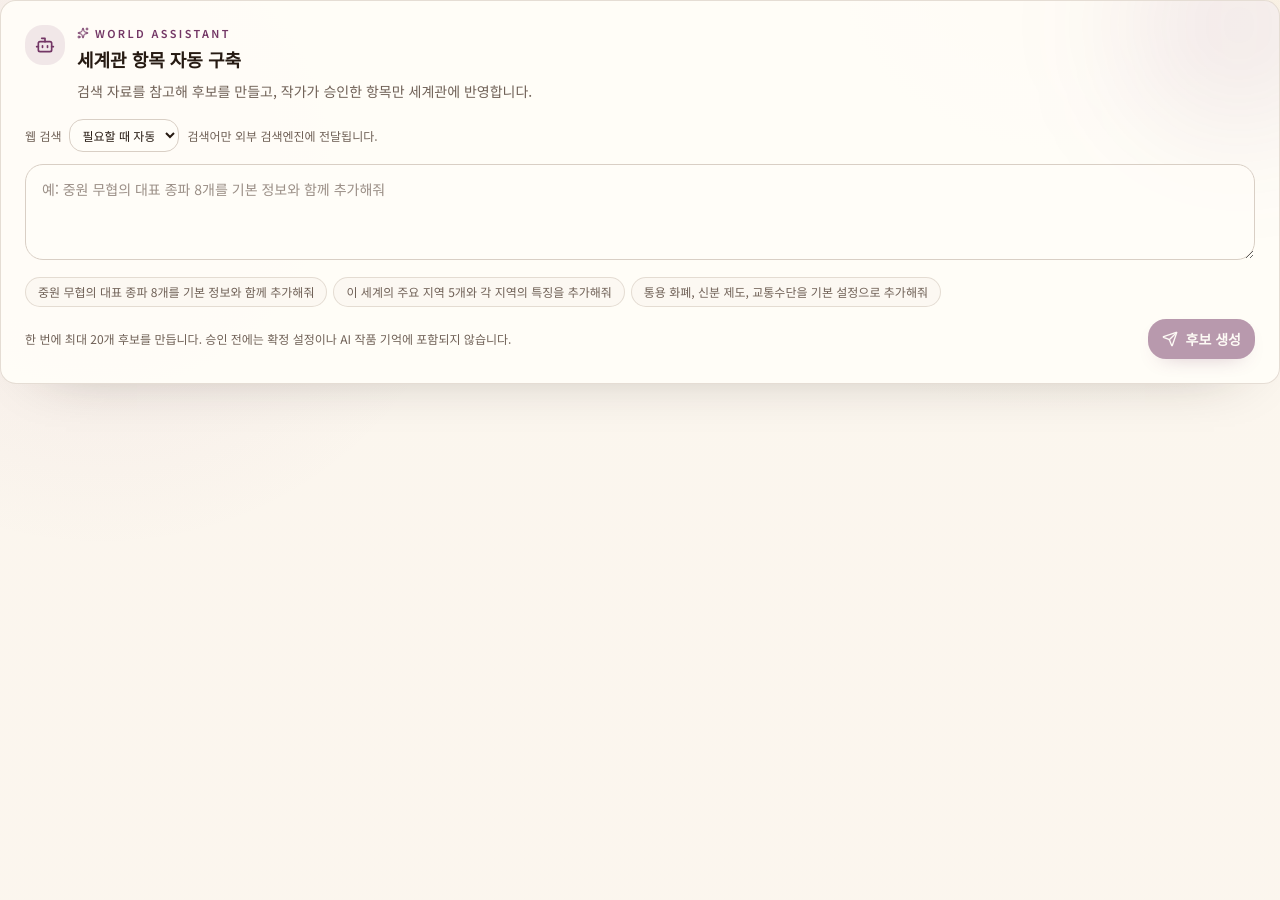
Test: WorldBuilderAssistant review flow › shows an existing-entry diff and applies it only after explicit approval
This screenshot has width=1280, height=900.
Type "모용세가 설명을 수정해줘" into the text box named "세계관 어시스턴트 요청" at (640, 212), box [25,164,1255,260]
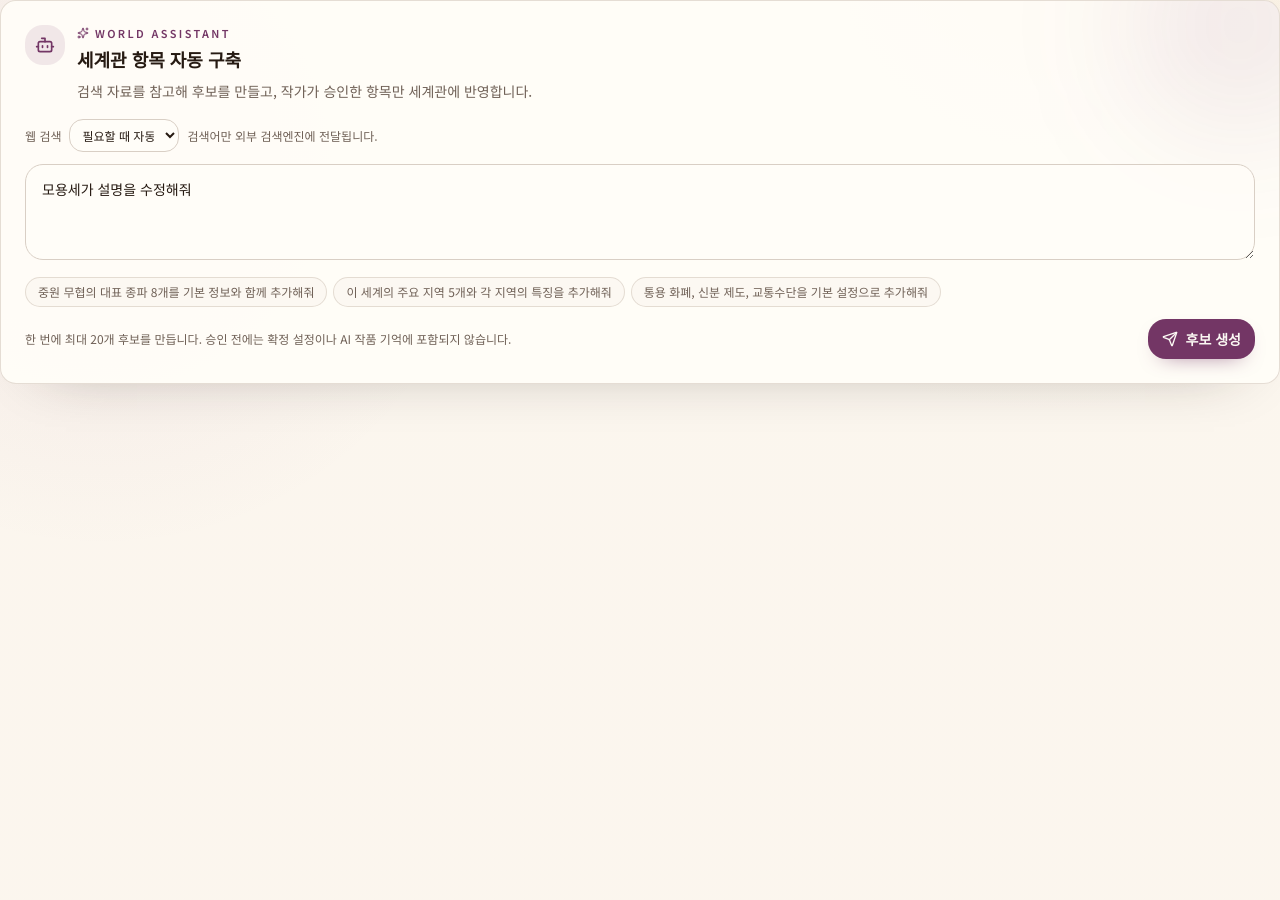
Click the button "후보 생성" at (1201, 339), box [1148,319,1255,359]
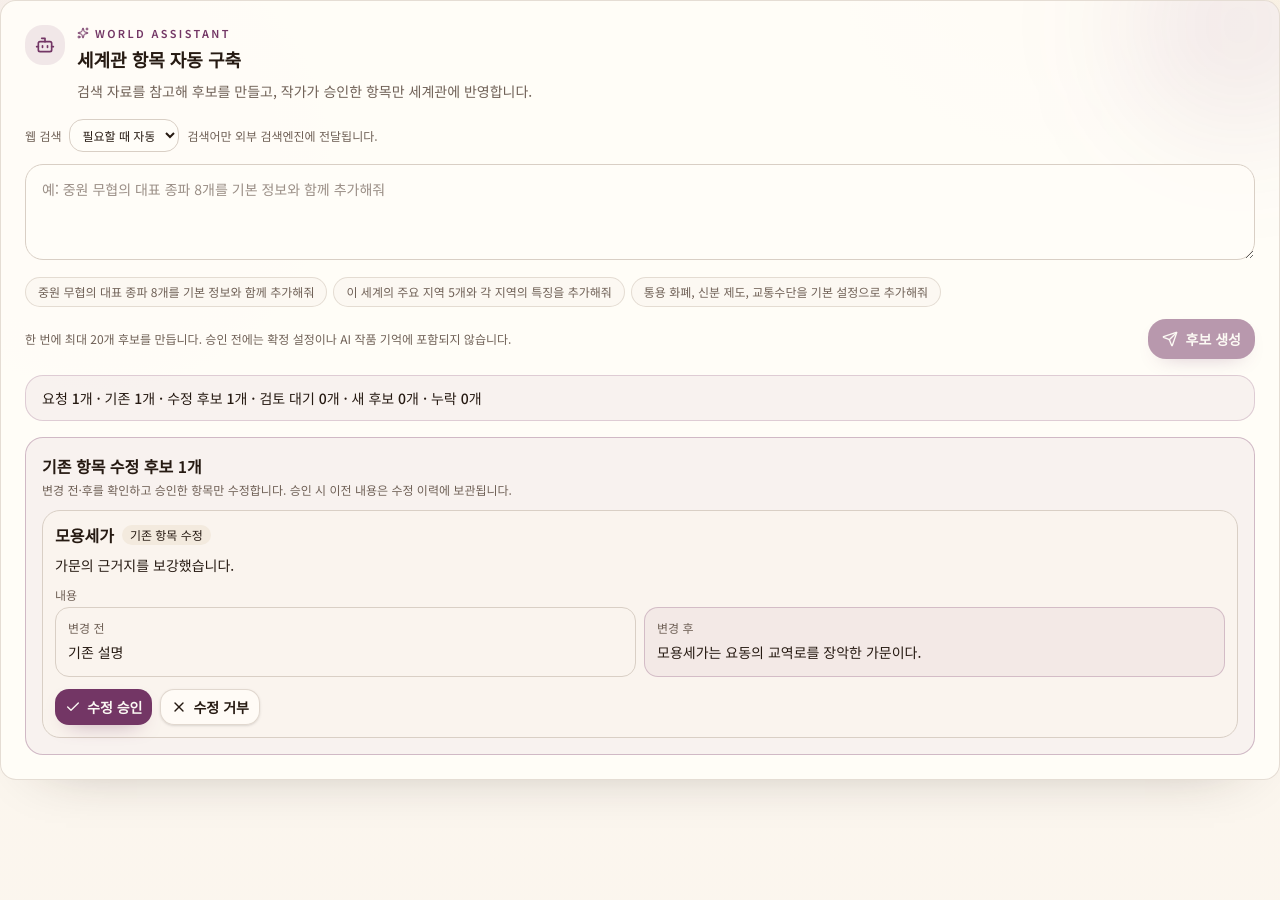
Expected: the text "기존 설명" is shown, [68,642,124,662]
Expected: the text "모용세가는 요동의 교역로를 장악한 가문이다." is shown, [657,642,921,662]
Click the button "수정 승인" at (104, 707), box [55,689,152,725]
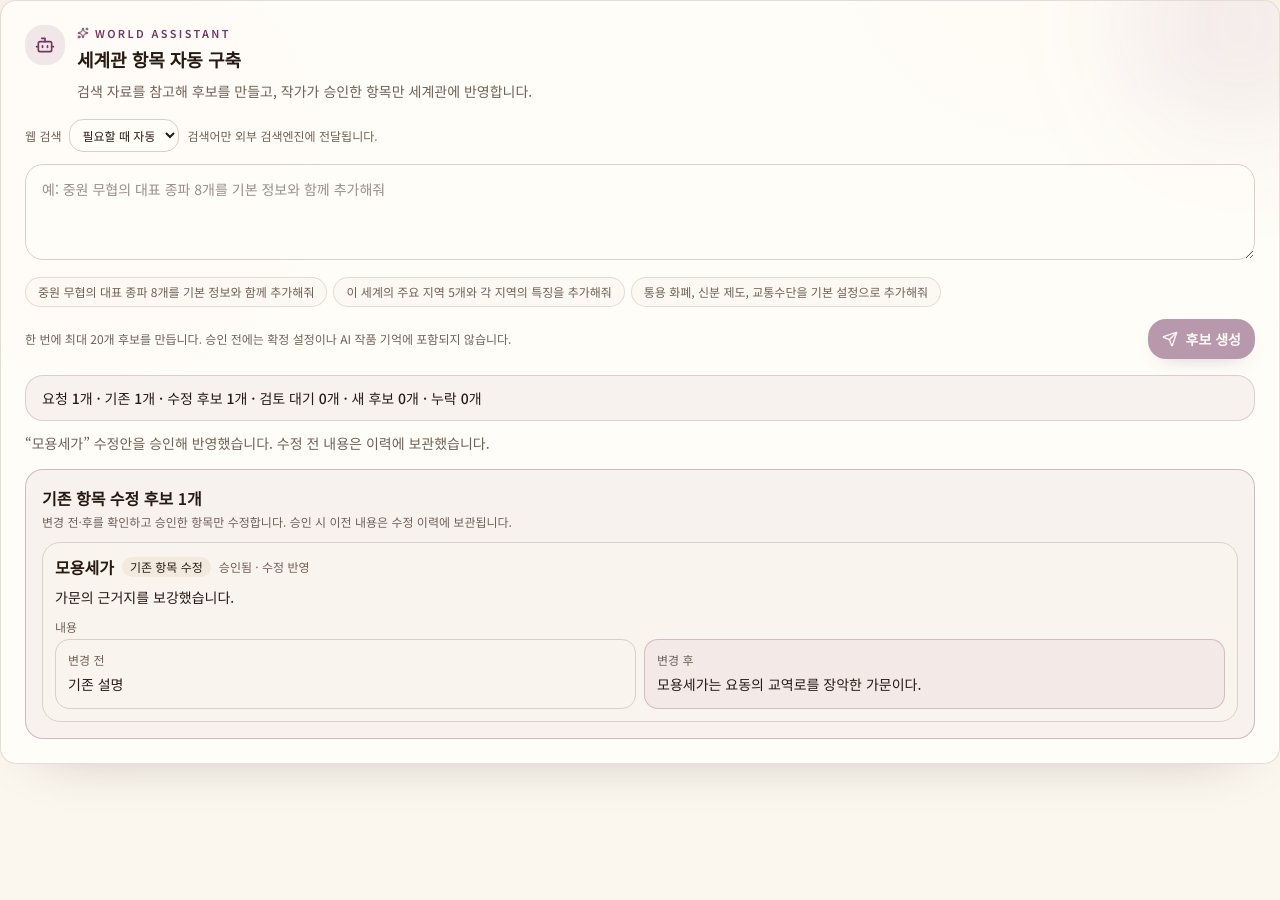
Expected: the text "승인됨 · 수정 반영" is shown, [219,559,310,575]
